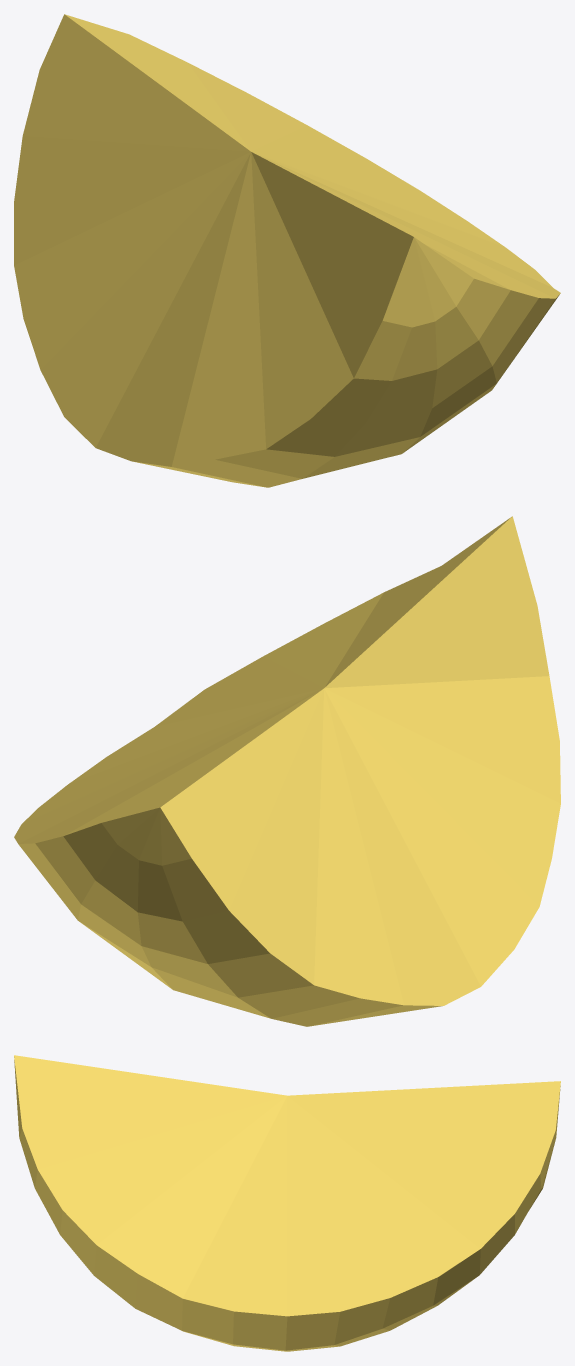
File: f_wedge_fry.fbx
3 views of the same model, one above another, from view 1: azimuth 30°, elevation 25°; view 2: azimuth 150°, elevation 25°; view 3: azimuth 270°, elevation 25° (orthographic). The views are drawn at different scales.
Visible parts, largest first — view 1: f_wedge_fry; view 2: f_wedge_fry; view 3: f_wedge_fry.
Boxes of the visible parts, x1=… form: f_wedge_fry: x1=14, y1=14, x2=560, y2=487; f_wedge_fry: x1=14, y1=516, x2=560, y2=1026; f_wedge_fry: x1=14, y1=1055, x2=560, y2=1351.
Bounding box in the file's own units: 9.2 × 7.38 × 13.57.
